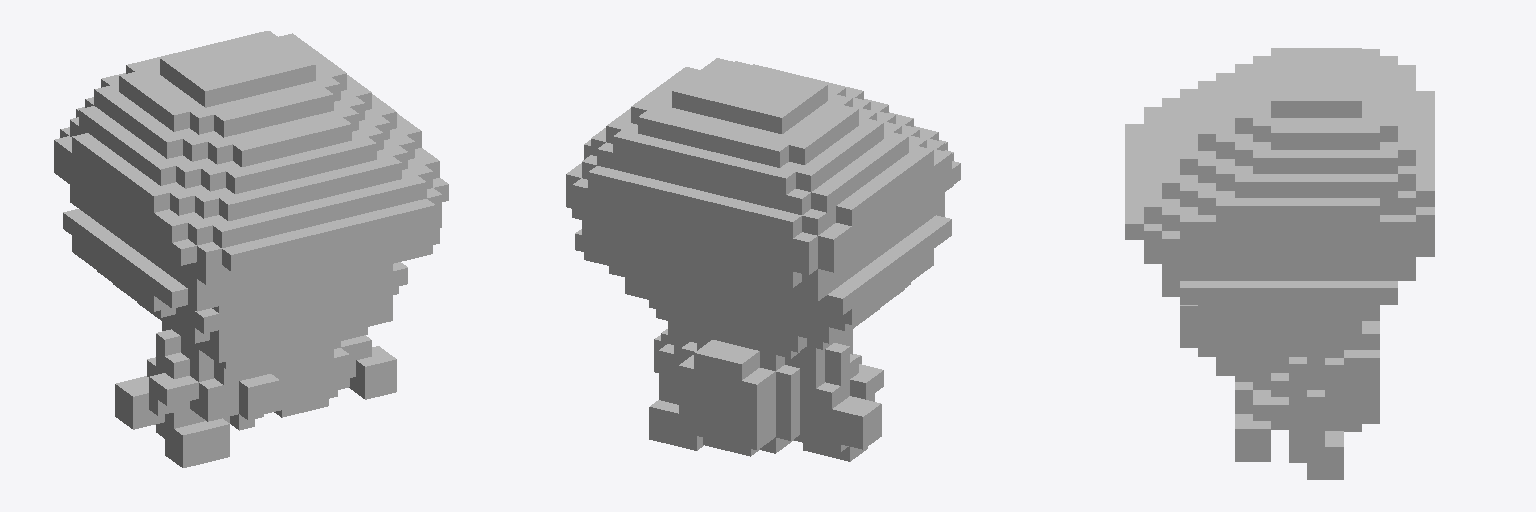
The model's file is lucas-walk-2.obj.
3 views of the same model, side by side, from view 1: azimuth 30°, elevation 25°; view 2: azimuth 150°, elevation 25°; view 3: azimuth 270°, elevation 25° (orthographic).
Parts seen in each view (by area): view 1: Untitled_palette; view 2: Untitled_palette; view 3: Untitled_palette.
Part boxes in pixels (x1,y1,x2,y2): Untitled_palette: (54,31,448,467); Untitled_palette: (566,58,960,461); Untitled_palette: (1125,48,1434,479).
Size of the model in its own units: 1.7 by 2.2 by 1.7.